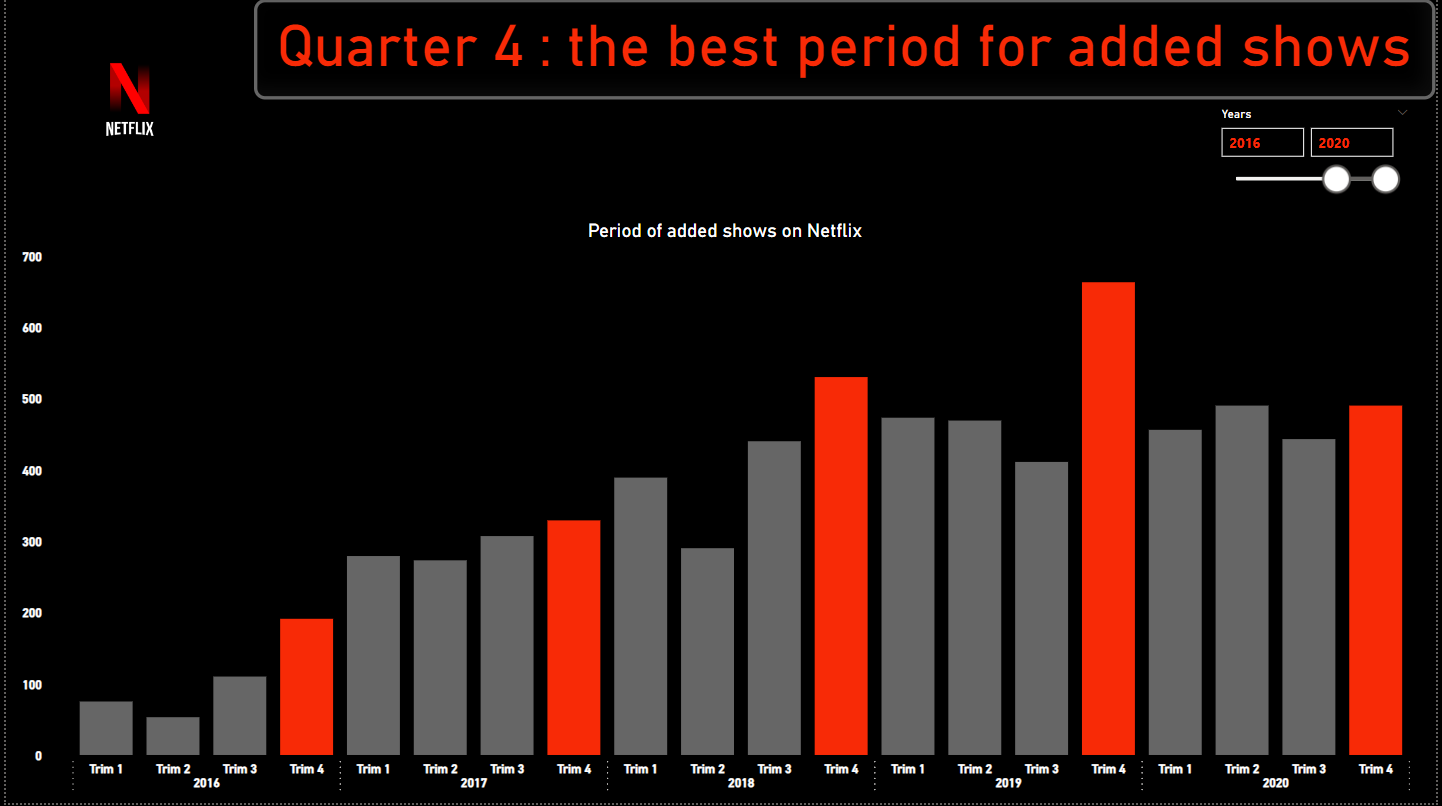

What the dashboard file says about the page in this screenshot:
{"tool":"powerbi","page":{"name":"Q4 best  period added","canvas":[1280,720],"ordinal":7},"visuals":[{"type":"textbox","box":[222.1,0,1057.6,89.6],"z":0},{"type":"image","box":[0,0,222.1,181.8],"z":1000},{"type":"lineClusteredColumnComboChart","title":"Period of added shows on Netflix","fields":{"Category":["netflix.date_added.Variation.Hiérarchie de dates.Année","netflix.date_added.Variation.Hiérarchie de dates.Trimestre"],"Y":["Count(netflix.show_id)"]},"box":[8.1,197,1271.6,523],"z":2000},{"type":"slicer","fields":{"Values":["netflix.date_added.Variation.Hiérarchie de dates.Année"]},"box":[1075.5,91.3,192.5,99.4],"z":3000}]}

Visuals, with their boxes in screenshot pixels (x1, y1, x2, y2), scaled from the page's 1280x720 canvas onto the 1442x806 screenshot:
textbox: <region>250, 0, 1441, 100</region>
image: <region>0, 0, 250, 204</region>
"Period of added shows on Netflix" lineClusteredColumnComboChart: <region>9, 221, 1441, 805</region>
slicer - netflix.date_added.Variation.Hiérarchie de dates.Année: <region>1212, 102, 1428, 213</region>
